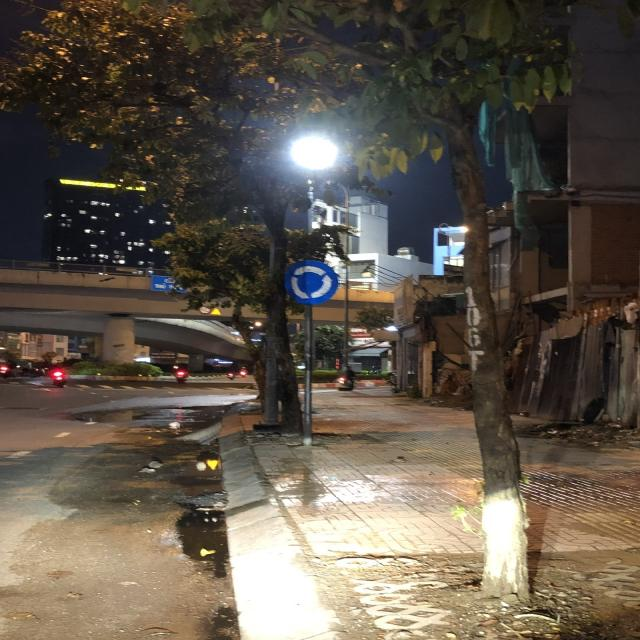Bien bao noi giao nhau chay theo vong xuyen: (281, 256, 343, 308)
